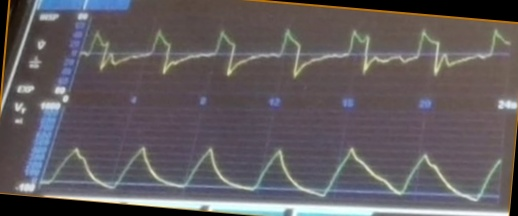Premature_cycling Flow: (85, 25, 510, 88)
Premature_cycling Volume: (50, 142, 502, 200)
